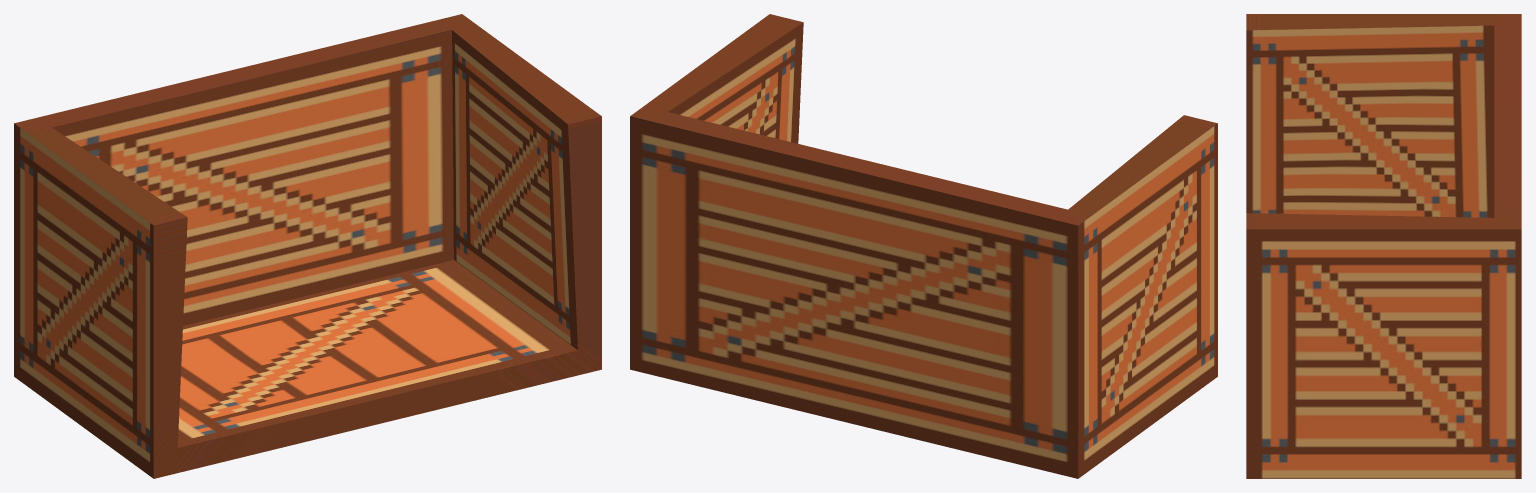
Rendered from crate.fbx.
3 renders of one model, left to right at view 1: azimuth 30°, elevation 25°; view 2: azimuth 150°, elevation 25°; view 3: azimuth 270°, elevation 25°, orthographic.
Parts seen in each view (by area): view 1: Cube; view 2: Cube; view 3: Cube.
Boxes of the visible parts, x1,y1,x2,y2 form: Cube: [14, 14, 601, 478]; Cube: [630, 14, 1217, 478]; Cube: [1246, 14, 1521, 478].
Size of the model in its own units: 729 by 394 by 394.
